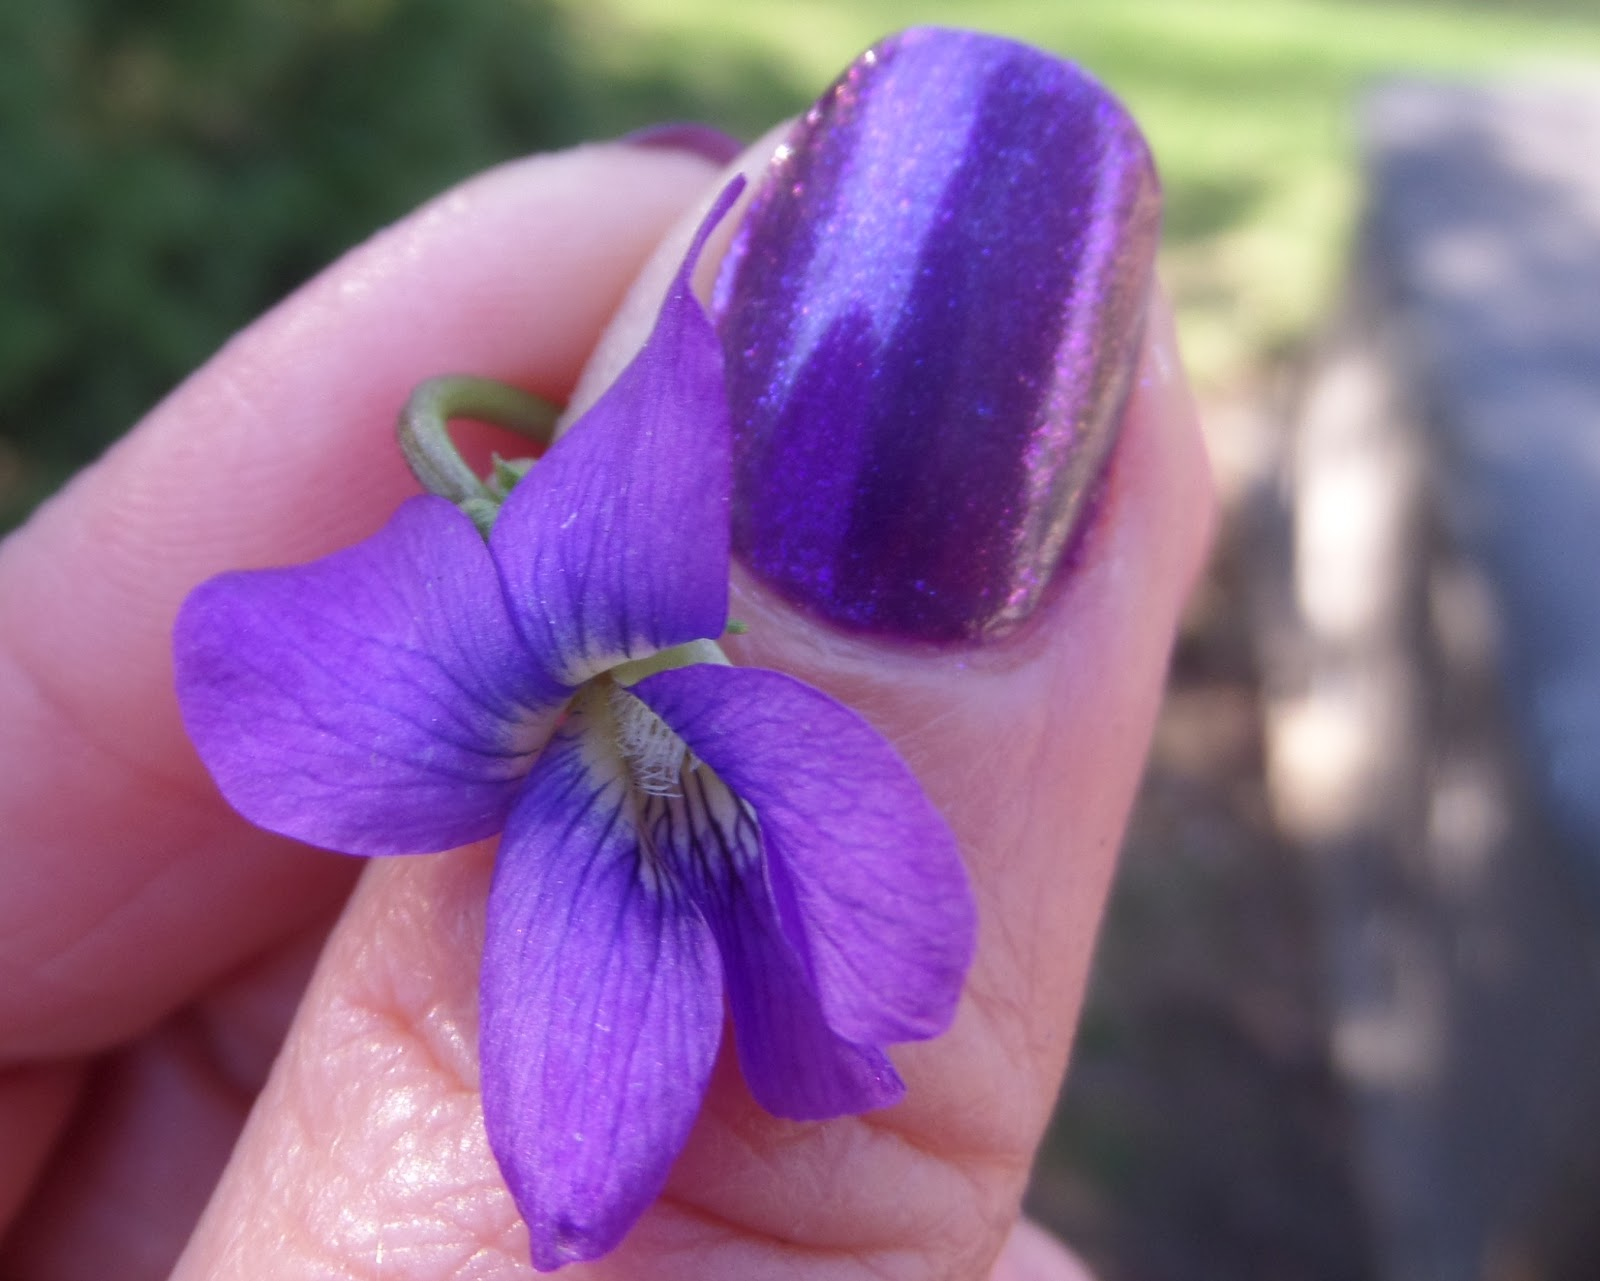violet: (108, 396, 999, 1173)
